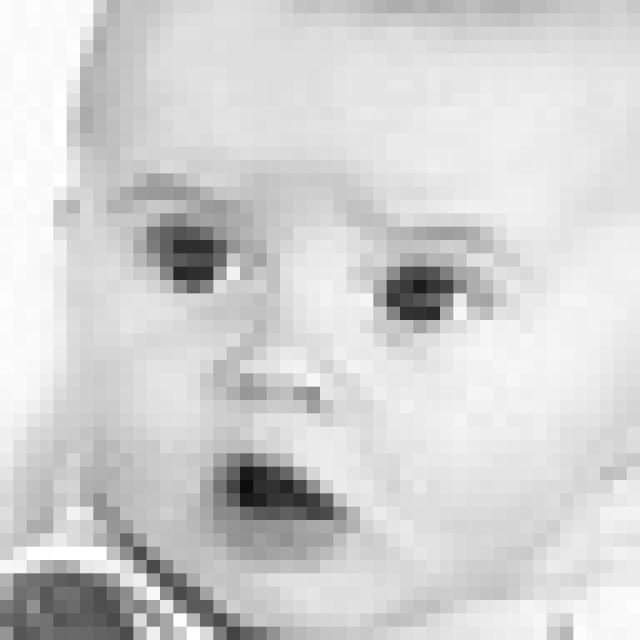surprise: (102, 168, 549, 566)
